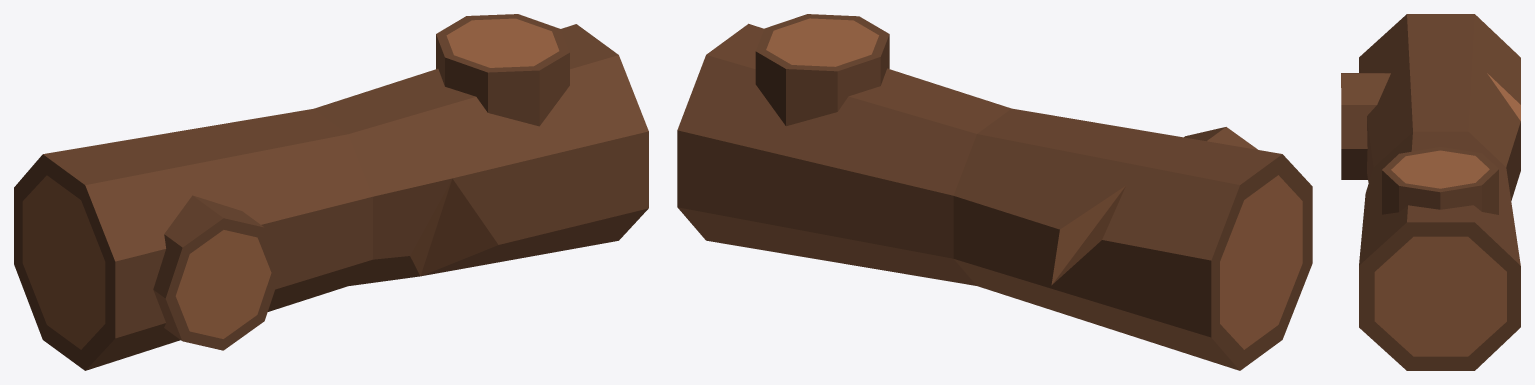
File: Log_7_Brown.fbx
The picture shows the model from 3 angles, left to right: view 1: azimuth 30°, elevation 25°; view 2: azimuth 150°, elevation 25°; view 3: azimuth 270°, elevation 25°; orthographic projection. The views are drawn at different scales.
Parts seen in each view (by area): view 1: Log_7_Brown; view 2: Log_7_Brown; view 3: Log_7_Brown.
Part boxes in pixels (<box>): Log_7_Brown: <box>14,14,648,370</box>; Log_7_Brown: <box>677,14,1312,370</box>; Log_7_Brown: <box>1341,14,1520,370</box>.
Bounding box in the file's own units: 250 × 92.12 × 91.13.
